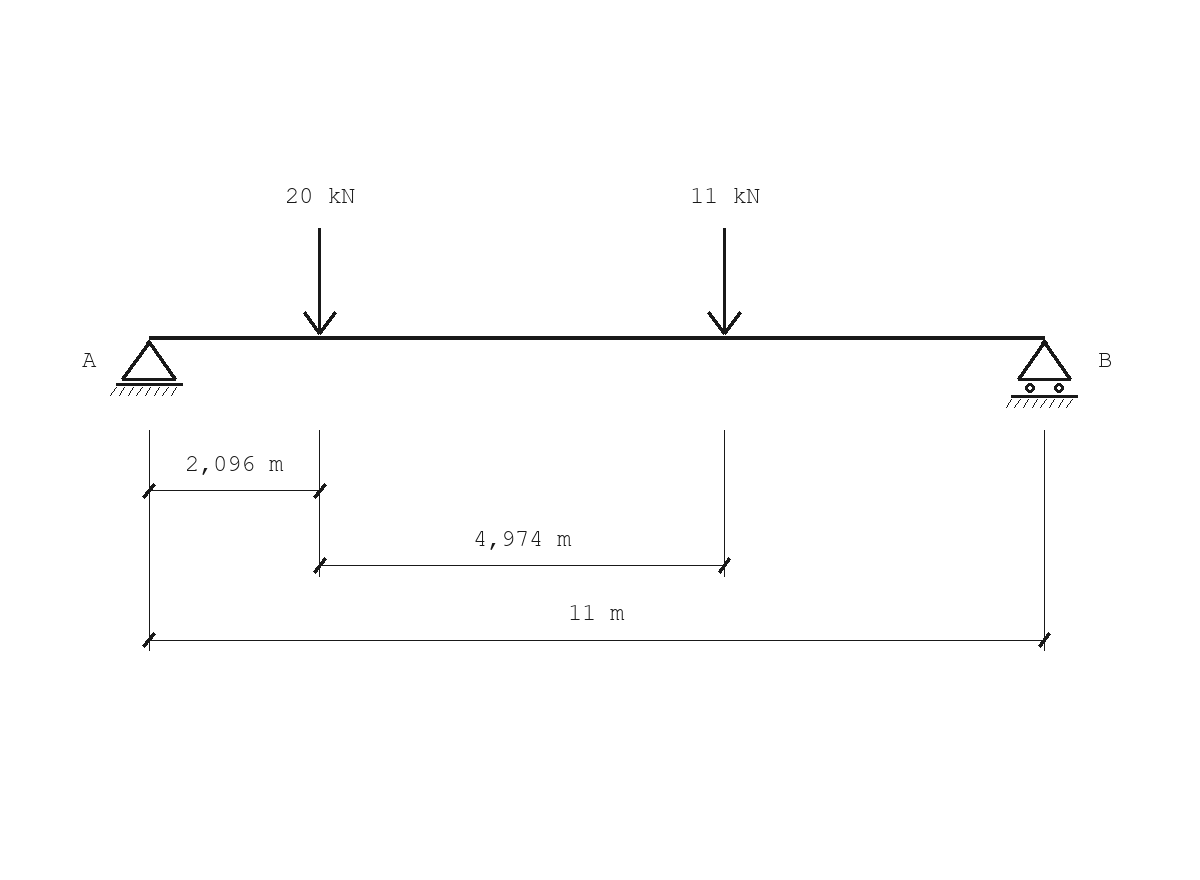pin_support: (110, 340, 183, 396)
point_load: (707, 228, 742, 335), (303, 228, 337, 335)
roller_support: (1006, 340, 1078, 408)
